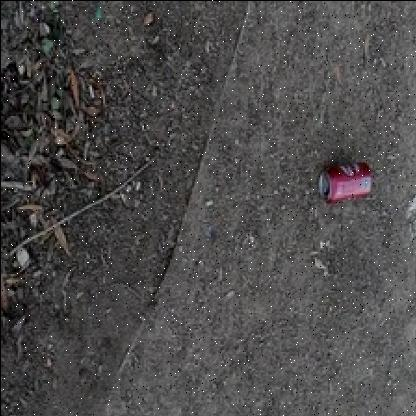Can: (317, 161, 372, 202)
